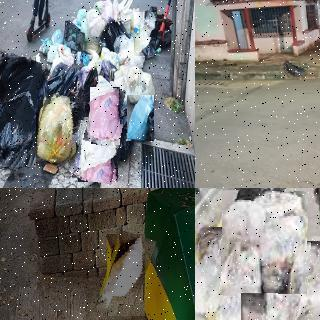Garbage: (221, 190, 308, 294), (0, 55, 43, 168), (195, 224, 245, 320), (263, 239, 320, 320), (101, 232, 151, 318), (34, 93, 82, 164), (75, 119, 121, 184), (87, 86, 123, 146), (234, 188, 296, 209), (127, 95, 154, 141), (135, 12, 157, 56), (87, 9, 109, 43), (141, 4, 163, 37), (280, 61, 308, 79)
